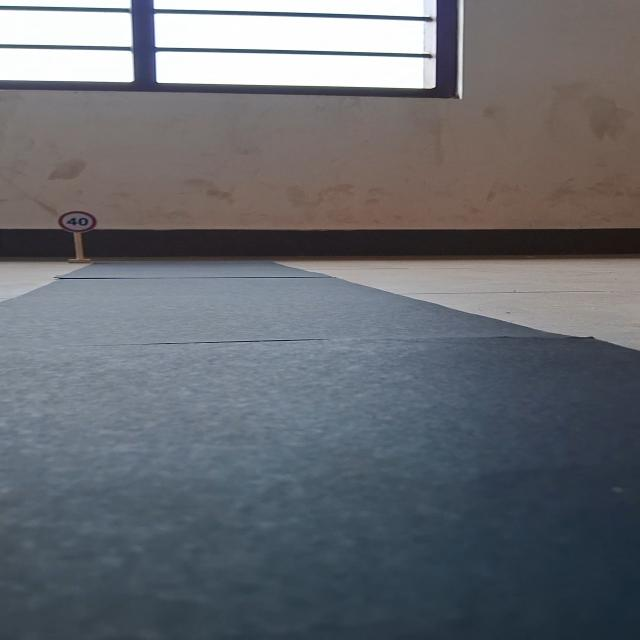Speed40: (52, 207, 103, 237)
